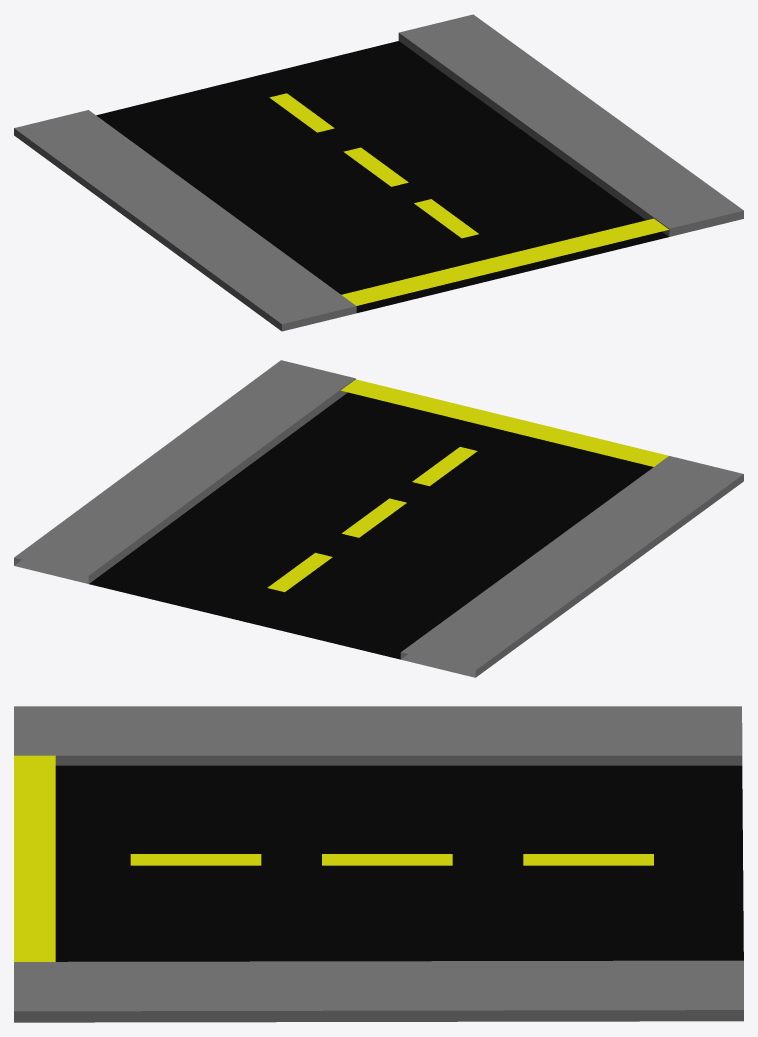
Rendered from Cut half Version 2.fbx.
3 views of the same model, one above another, from view 1: azimuth 30°, elevation 25°; view 2: azimuth 150°, elevation 25°; view 3: azimuth 270°, elevation 25° (orthographic). The views are drawn at different scales.
Visible parts, largest first — view 1: polySurface430; view 2: polySurface430; view 3: polySurface430.
Boxes of the visible parts, bbox=[...] form: polySurface430: bbox=[14, 14, 743, 331]; polySurface430: bbox=[14, 360, 743, 677]; polySurface430: bbox=[14, 706, 743, 1022].
Size of the model in its own units: 12.39 by 0.2121 by 12.47.
